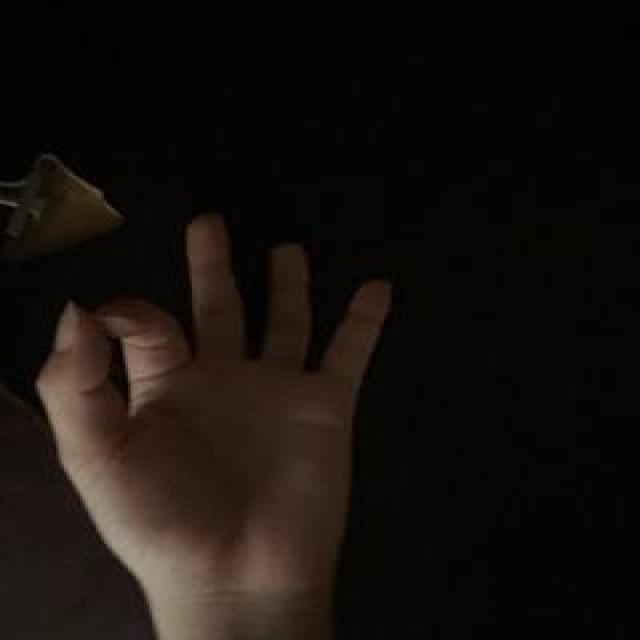F: (21, 206, 400, 602)
